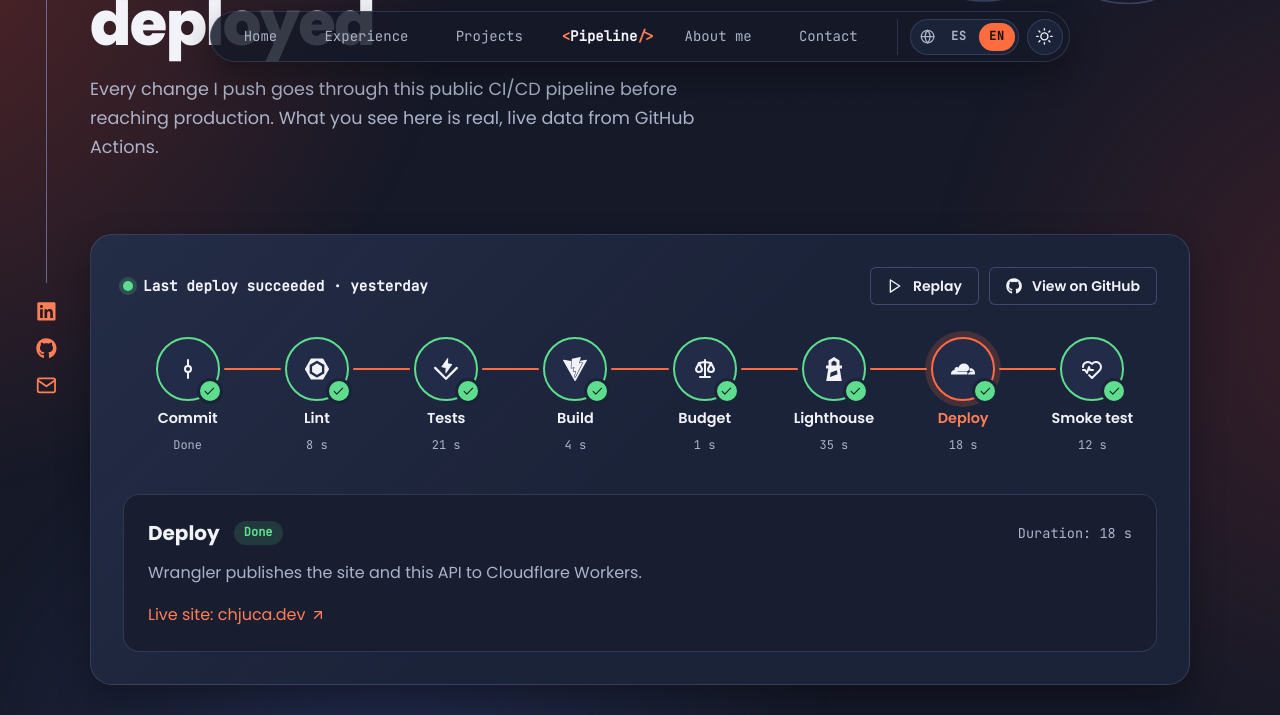
Test case: site › shows the live pipeline with its stages, metrics and history
(page scrolled)
Expected: the text "Last deploy succeeded" is shown, [143, 276, 324, 295]
Click the button "Tests 21 s". click: (446, 400)
box: [410, 337, 482, 462]
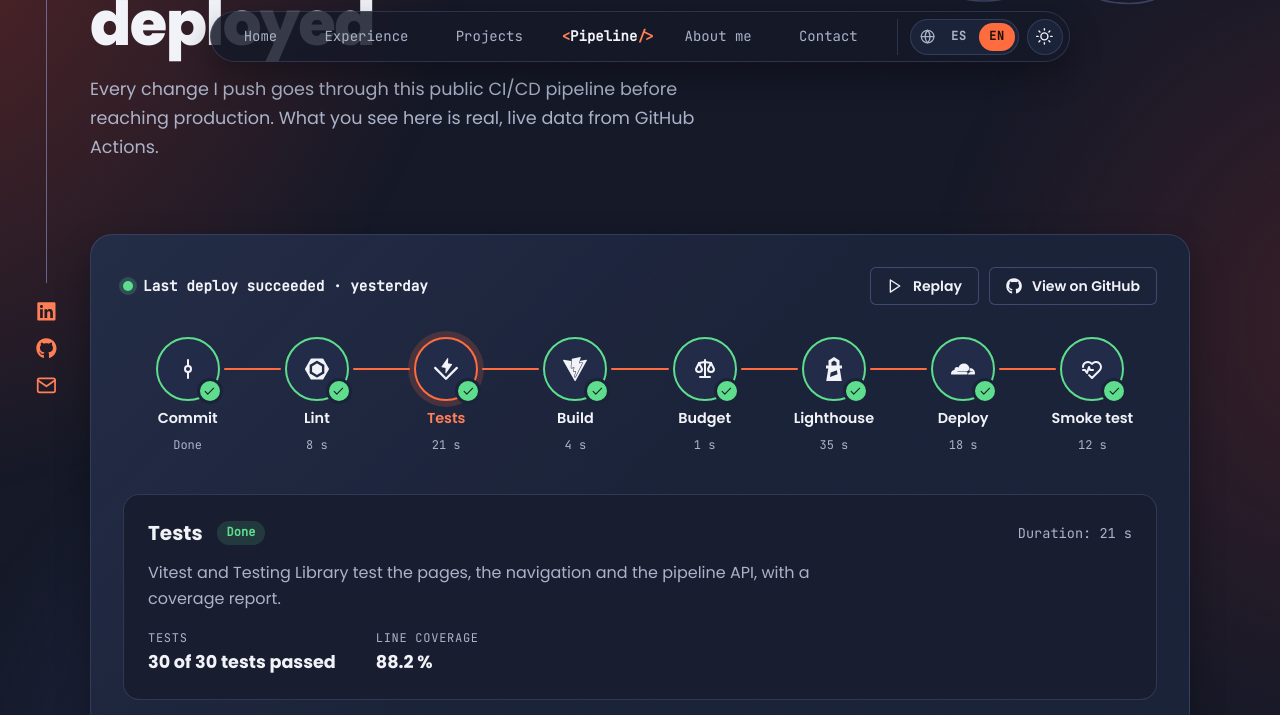
Result: the heading "Tests" is shown at [148, 517, 203, 550]
Result: the text "30 of 30 tests passed" is shown at [148, 648, 336, 677]
Click the button "Replay". click: (924, 286)
box: [870, 267, 979, 305]
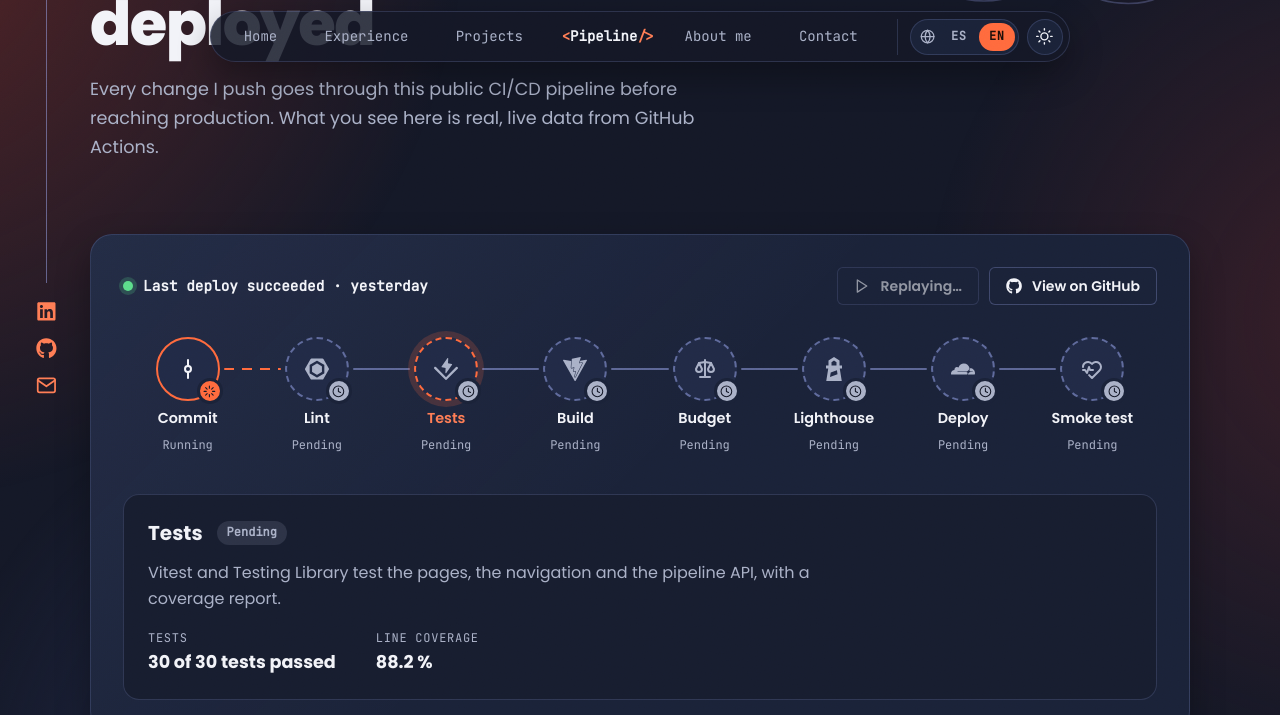
Result: the button "Replaying…" is disabled at [838, 267, 979, 305]
